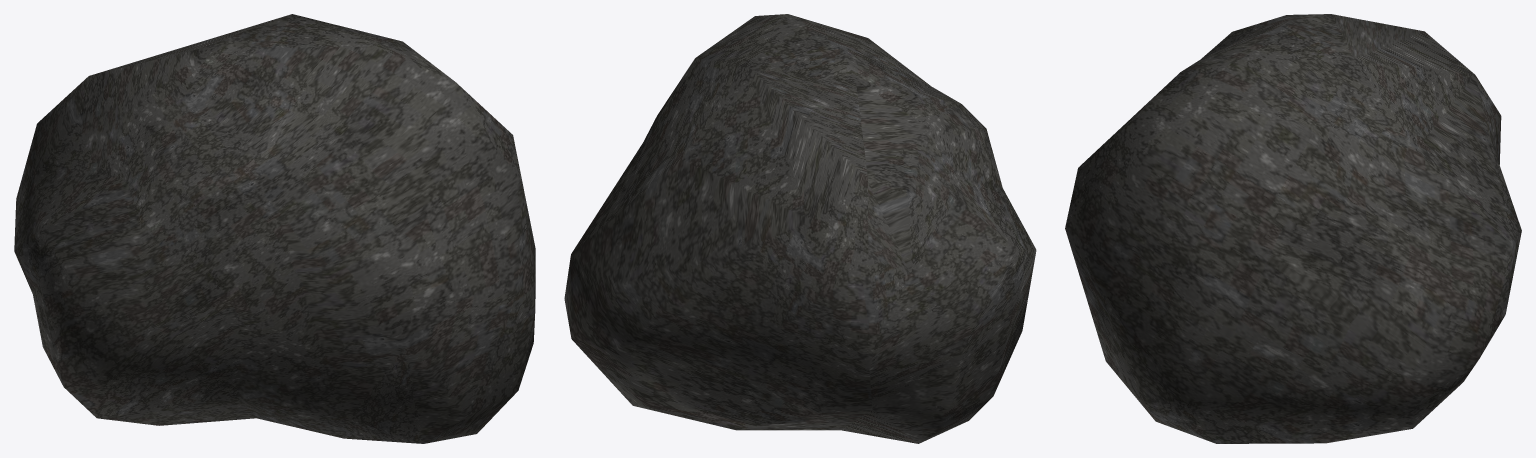
The model's file is Asteroid1.fbx.
3 views of the same model, side by side, from view 1: azimuth 30°, elevation 25°; view 2: azimuth 150°, elevation 25°; view 3: azimuth 270°, elevation 25° (orthographic). The views are drawn at different scales.
Parts seen in each view (by area): view 1: Sphere; view 2: Sphere; view 3: Sphere.
Part boxes in pixels (x1,y1,x2,y2): Sphere: (14,14,535,443); Sphere: (564,14,1036,443); Sphere: (1065,14,1521,443).
Size of the model in its own units: 510 by 437 by 510.
Materials: 1 (1 with a texture image).
